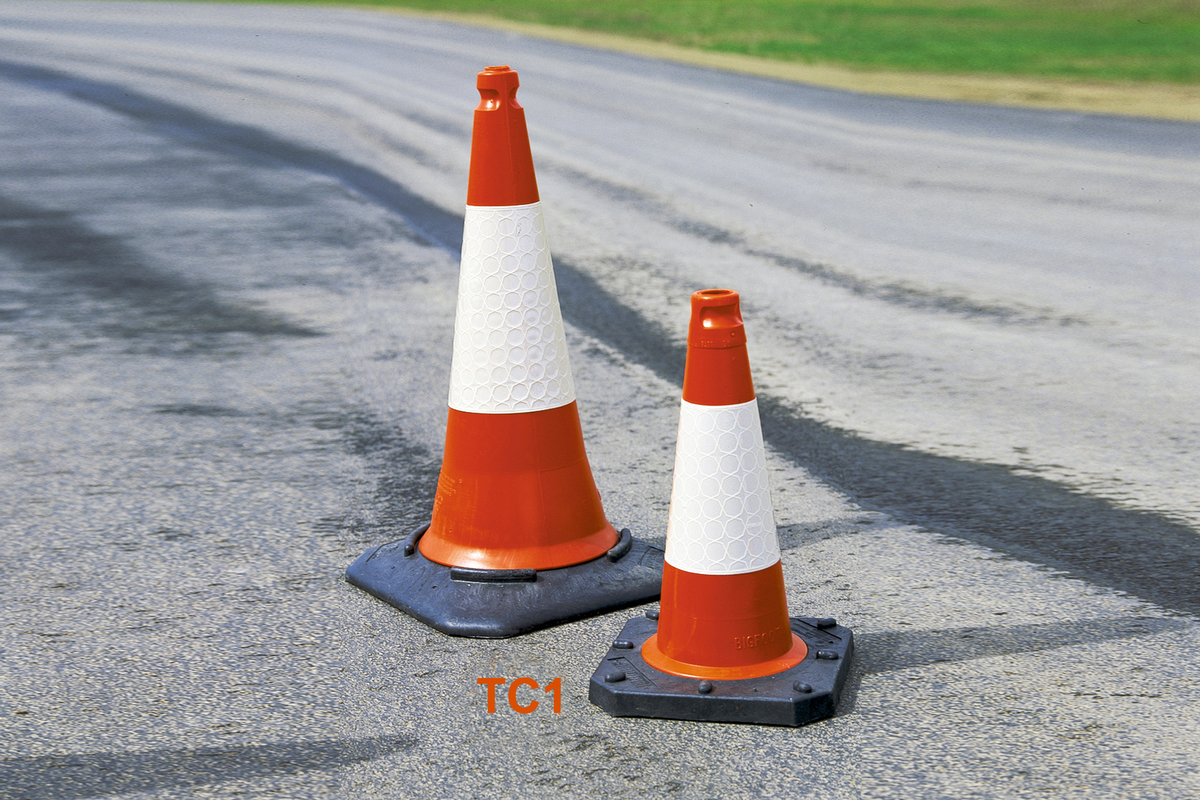cones: (378, 57, 659, 615), (621, 288, 850, 717)
